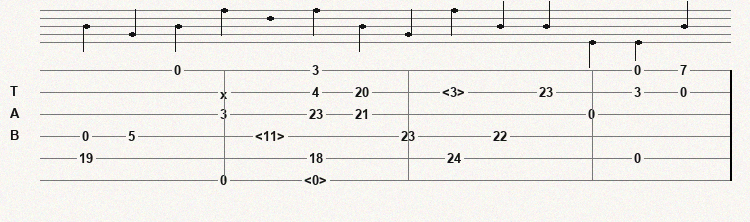0: (82, 129, 93, 143), (174, 63, 185, 77), (220, 173, 231, 187), (588, 107, 599, 121), (634, 151, 645, 165), (634, 63, 645, 77), (680, 85, 691, 99)
18: (309, 151, 327, 165)
19: (79, 151, 97, 165)
20: (355, 85, 373, 99)
21: (355, 107, 373, 121)
22: (493, 129, 511, 143)
23: (309, 107, 327, 121), (401, 129, 419, 143), (539, 85, 557, 99)
24: (447, 151, 465, 165)
3: (220, 107, 231, 121), (312, 63, 323, 77), (634, 85, 645, 99)
4: (312, 85, 323, 99)
5: (128, 129, 139, 143)
7: (680, 63, 691, 77)
harmonic: (255, 129, 289, 143), (304, 173, 331, 187), (442, 85, 469, 99)
x: (220, 87, 232, 98)
